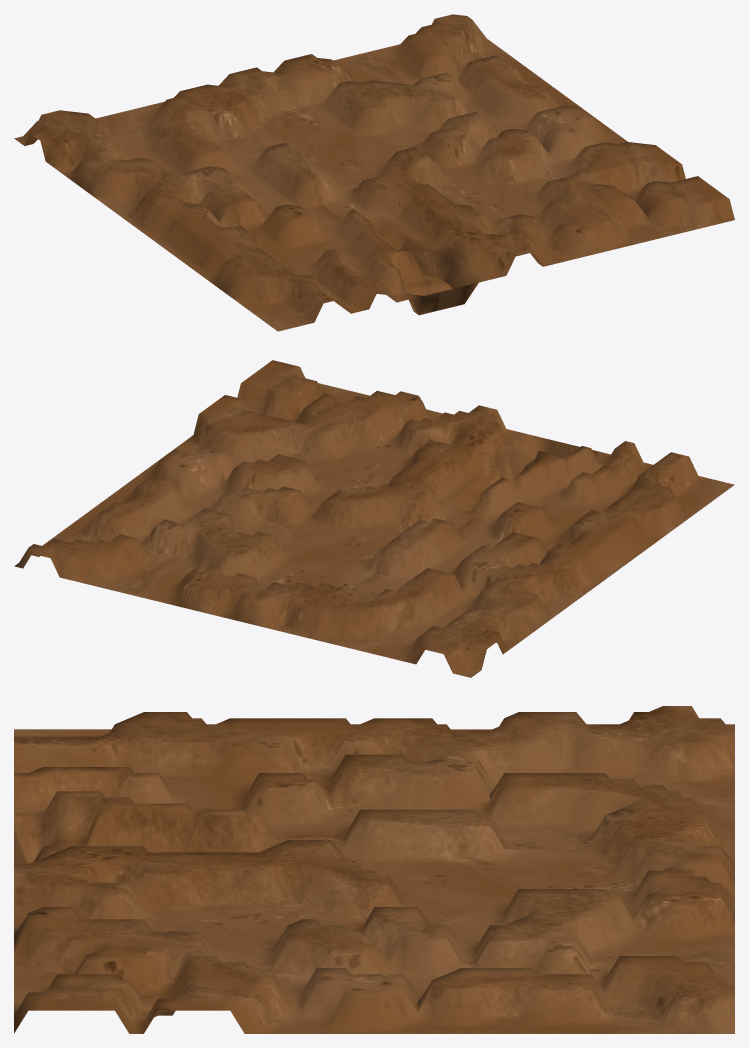
The model's file is background3d.fbx.
The picture shows the model from 3 angles, top to bottom: view 1: azimuth 30°, elevation 25°; view 2: azimuth 150°, elevation 25°; view 3: azimuth 270°, elevation 25°; orthographic projection. The views are drawn at different scales.
Parts seen in each view (by area): view 1: Plane; view 2: Plane; view 3: Plane.
Part boxes in pixels (left/top/right/bottom): Plane: left=14, top=14, right=734, bottom=331; Plane: left=14, top=360, right=734, bottom=677; Plane: left=14, top=706, right=734, bottom=1033.
Size of the model in its own units: 667 by 56.19 by 667.
1 material, 1 textured.
